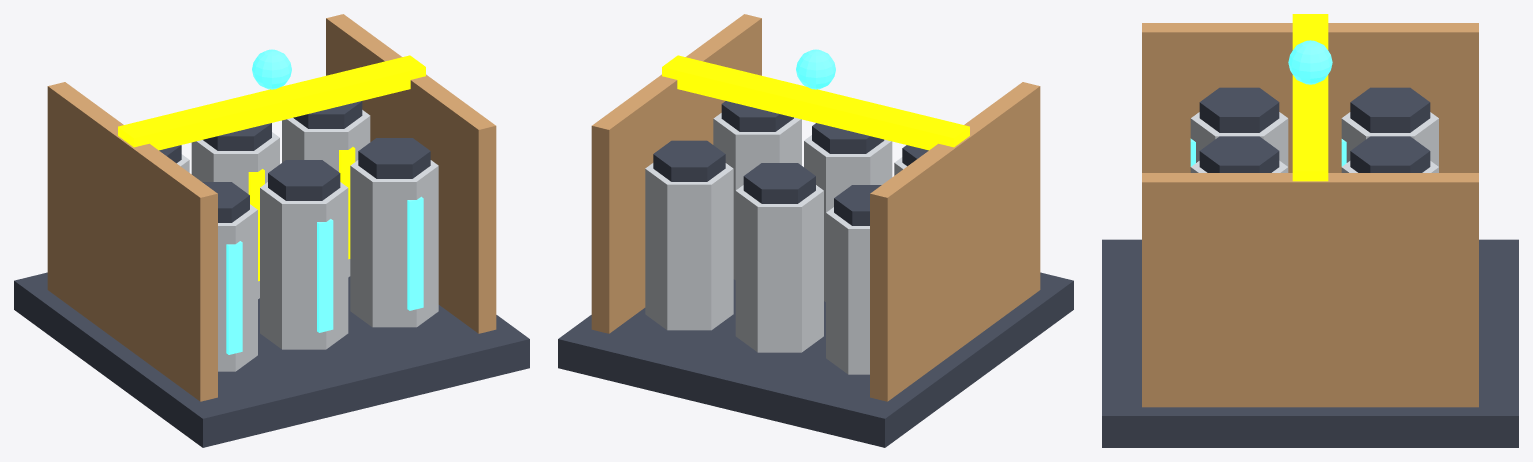
Rendered from landmark_battery_depot.glb.
3 views of the same model, side by side, from view 1: azimuth 30°, elevation 25°; view 2: azimuth 150°, elevation 25°; view 3: azimuth 270°, elevation 25° (orthographic). The views are drawn at different scales.
Parts seen in each view (by area): view 1: gantry_west, plinth, gantry_east, cell_2, cell_1, GantryBeam, cell_0, cell_5, cell_4, cap_1, cap_2, ChargeBar_0 (+8 smaller); view 2: gantry_west, plinth, gantry_east, cell_5, cell_4, GantryBeam, cell_3, cell_2, cell_1, cap_5, cap_4, cap_2 (+3 smaller); view 3: gantry_east, plinth, gantry_west, GantryBeam, cap_0, cap_3, cap_1, cap_4, cell_0, cell_3, Beacon.
Boxes of the visible parts, left/top/right/bottom form: gantry_west: left=47, top=82, right=217, bottom=401; plinth: left=14, top=272, right=529, bottom=447; gantry_east: left=326, top=14, right=496, bottom=333; cell_2: left=350, top=160, right=438, bottom=327; cell_1: left=260, top=182, right=348, bottom=349; GantryBeam: left=118, top=55, right=425, bottom=150; cell_0: left=218, top=204, right=257, bottom=371; cell_5: left=282, top=110, right=370, bottom=277; cell_4: left=191, top=132, right=279, bottom=298; cap_1: left=268, top=160, right=340, bottom=200; cap_2: left=358, top=138, right=430, bottom=178; ChargeBar_0: left=226, top=241, right=242, bottom=354; gantry_west: left=870, top=82, right=1040, bottom=401; plinth: left=558, top=272, right=1073, bottom=447; gantry_east: left=591, top=14, right=761, bottom=333; cell_5: left=645, top=163, right=733, bottom=330; cell_4: left=735, top=185, right=823, bottom=352; GantryBeam: left=662, top=55, right=969, bottom=150; cell_3: left=826, top=207, right=869, bottom=374; cell_2: left=713, top=113, right=801, bottom=279; cell_1: left=804, top=135, right=892, bottom=301; cap_5: left=653, top=140, right=725, bottom=181; cap_4: left=743, top=163, right=815, bottom=203; cap_2: left=721, top=101, right=793, bottom=131; gantry_east: left=1142, top=173, right=1478, bottom=407; plinth: left=1102, top=239, right=1518, bottom=447; gantry_west: left=1142, top=23, right=1478, bottom=172; GantryBeam: left=1292, top=14, right=1328, bottom=181; cap_0: left=1199, top=87, right=1279, bottom=132; cap_3: left=1350, top=87, right=1430, bottom=132; cap_1: left=1199, top=136, right=1279, bottom=172; cap_4: left=1350, top=136, right=1430, bottom=172; cell_0: left=1190, top=112, right=1288, bottom=166; cell_3: left=1341, top=112, right=1438, bottom=166; Beacon: left=1288, top=40, right=1332, bottom=84.
Size of the model in its own units: 0.94 by 0.79 by 0.94.
